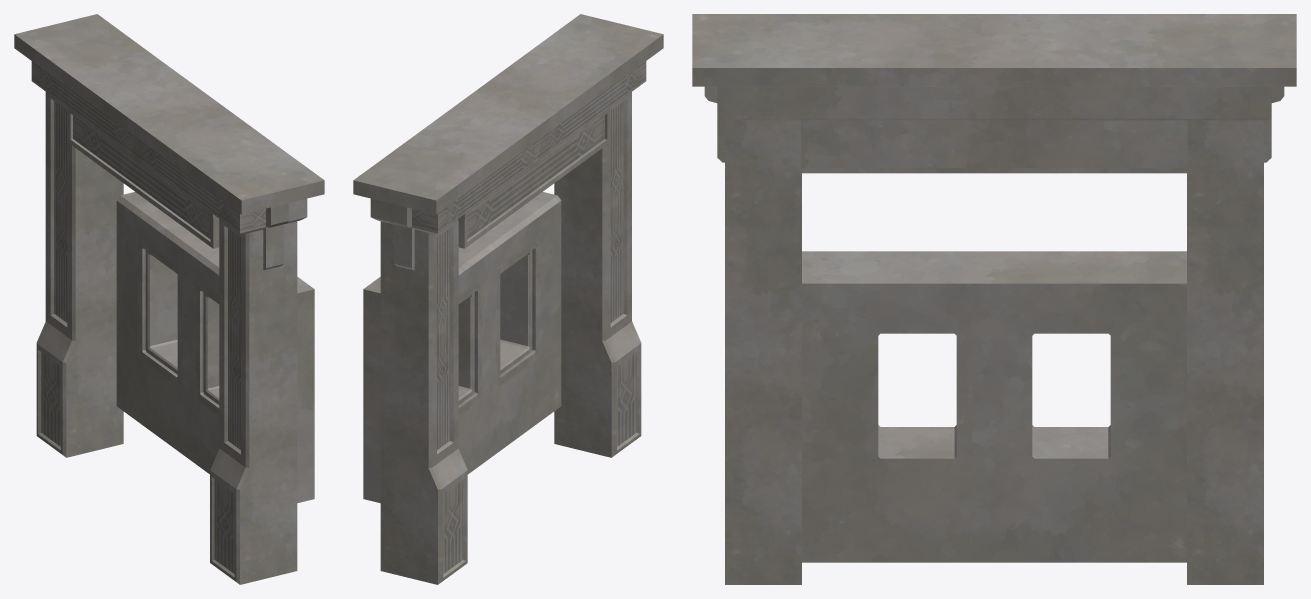
File: SM_Fountain.fbx
The picture shows the model from 3 angles, left to right: view 1: azimuth 30°, elevation 25°; view 2: azimuth 150°, elevation 25°; view 3: azimuth 270°, elevation 25°; orthographic projection. The views are drawn at different scales.
Visible parts, largest first — view 1: SM_Fountain_LOD0; view 2: SM_Fountain_LOD0; view 3: SM_Fountain_LOD0.
Part boxes in pixels (x1,y1,x2,y2): SM_Fountain_LOD0: (14, 14, 324, 584); SM_Fountain_LOD0: (353, 14, 663, 584); SM_Fountain_LOD0: (692, 14, 1296, 584).
Size of the model in its own units: 228 by 785 by 755.
1 material, 1 textured.
